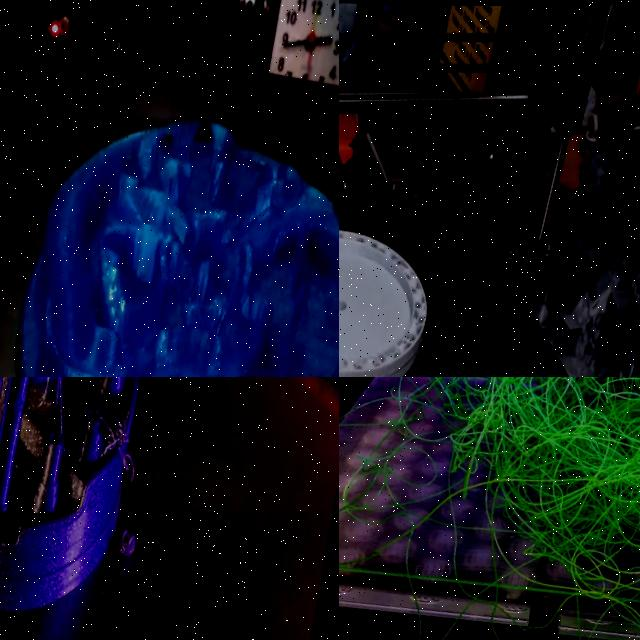spaghetti: (423, 377, 640, 607), (88, 406, 150, 490), (110, 518, 152, 573)
